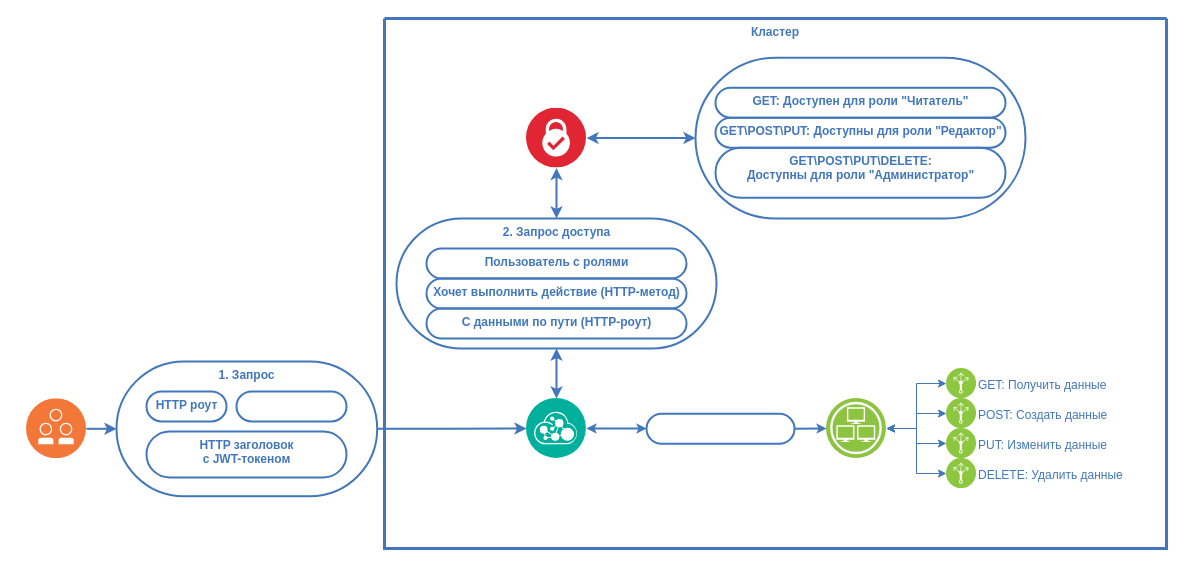
The diagram is 1185 pixels wide and 567 high, and some of its shapes have lost their labels. Here are the shapes that lost their labels. From the top down, the box of each, then its label:
(526, 108, 586, 168): Авторизация
(694, 56, 1026, 219): 3. Авторизация
(235, 390, 347, 422): HTTP метод
(26, 398, 86, 458): Пользователь
(526, 398, 586, 458): API Gateway
(645, 412, 795, 444): 4. Доступ разрешен
(826, 398, 886, 458): Приложение
